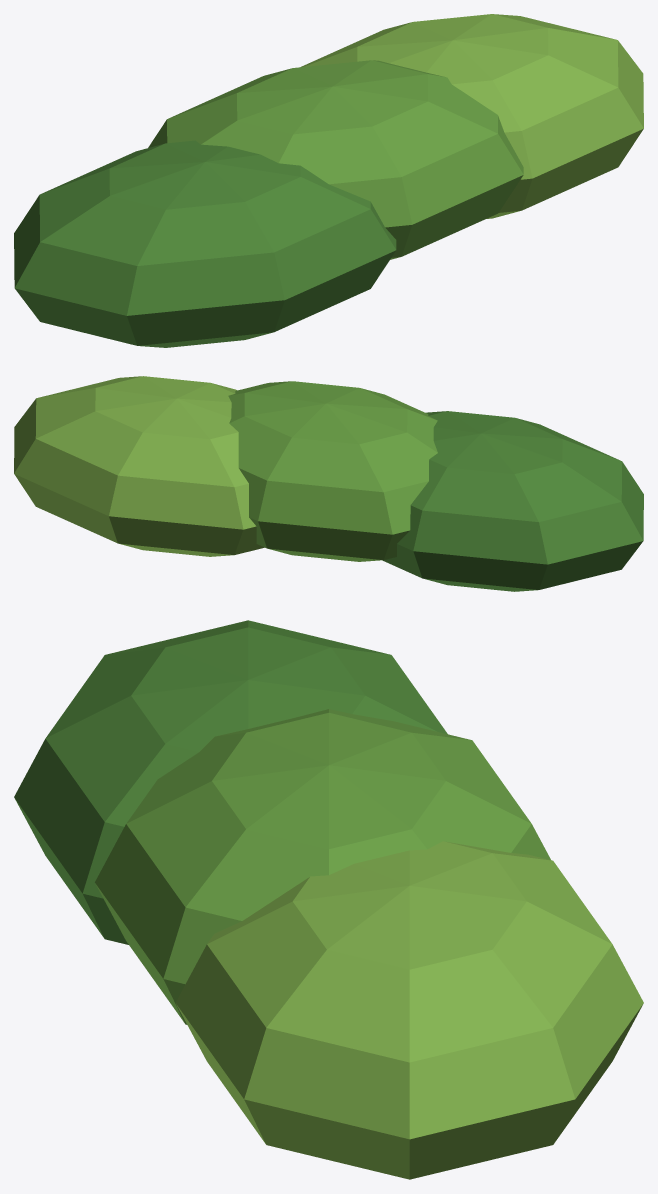
The model's file is bush_scrub_lod0.obj.
The picture shows the model from 3 angles, top to bottom: view 1: azimuth 30°, elevation 25°; view 2: azimuth 150°, elevation 25°; view 3: azimuth 270°, elevation 25°; orthographic projection. The views are drawn at different scales.
Parts seen in each view (by area): view 1: bush_scrub_lod0; view 2: bush_scrub_lod0; view 3: bush_scrub_lod0.
Part boxes in pixels (x1,y1,x2,y2): bush_scrub_lod0: (14,14,643,347); bush_scrub_lod0: (14,376,643,591); bush_scrub_lod0: (14,620,643,1179).
Size of the model in its own units: 2.87 by 0.71 by 1.56.
1 material, 1 textured.
